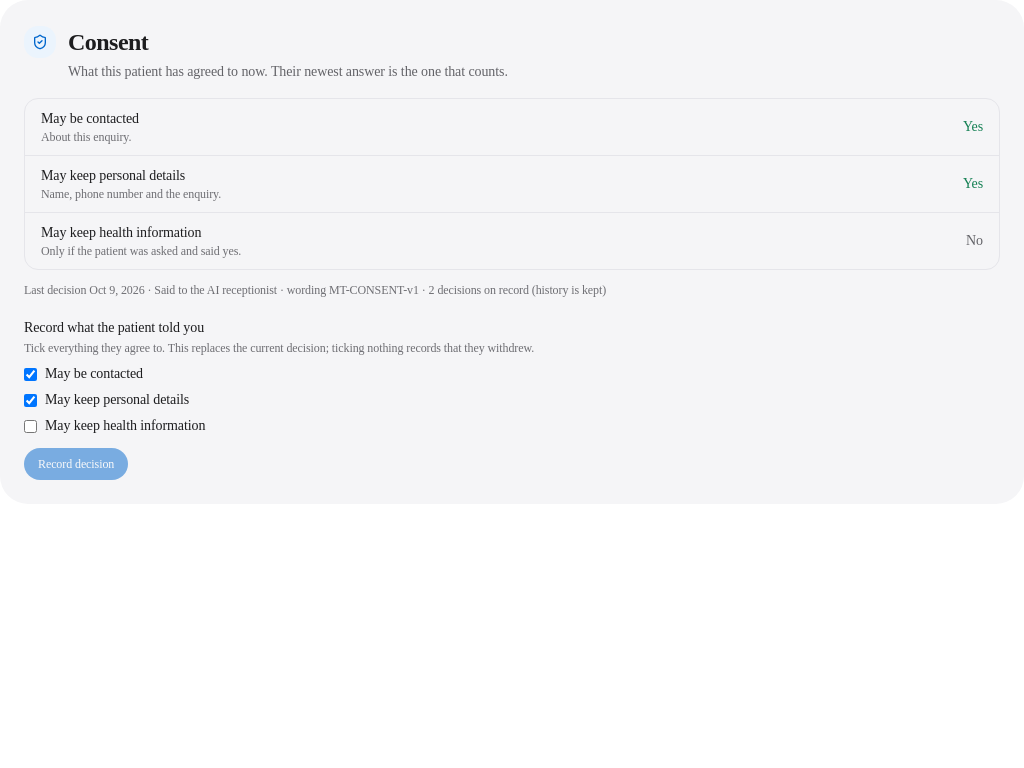
Test case: LeadConsentPanel › ticking nothing records a withdrawal
Expected: the button "Record decision" is shown, [24,448,128,480]
Click the checkbox labelled "May be contacted" at (30, 374), box [24,368,37,380]
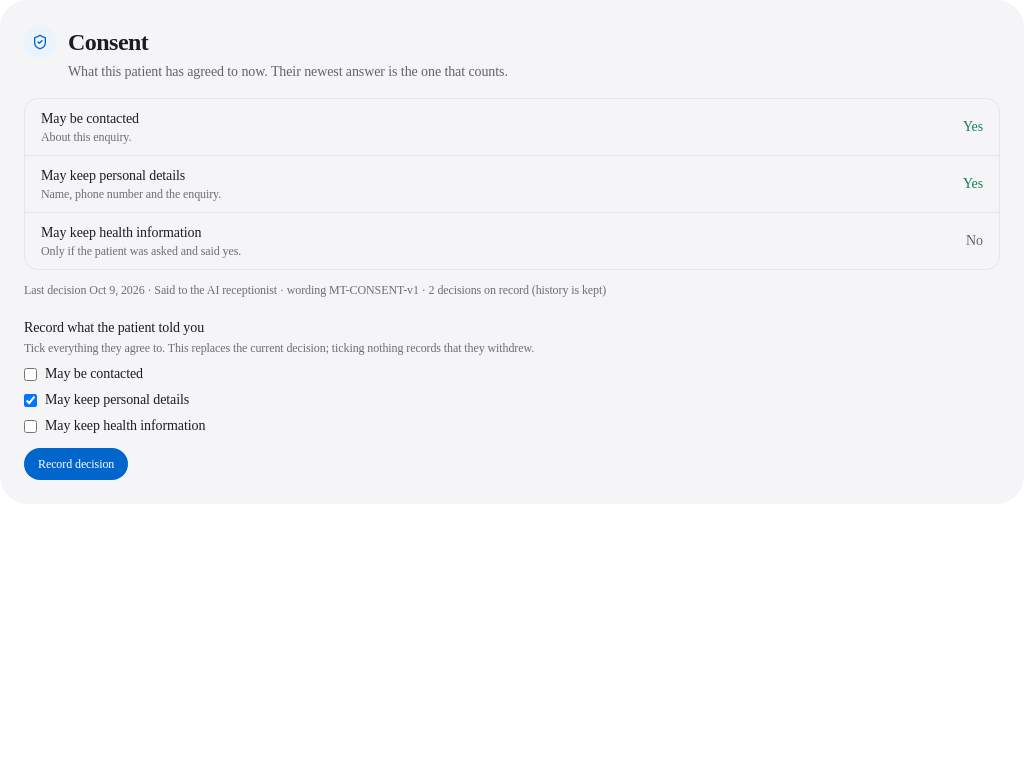
Click the checkbox labelled "May keep personal details" at (30, 400), box [24,394,37,406]
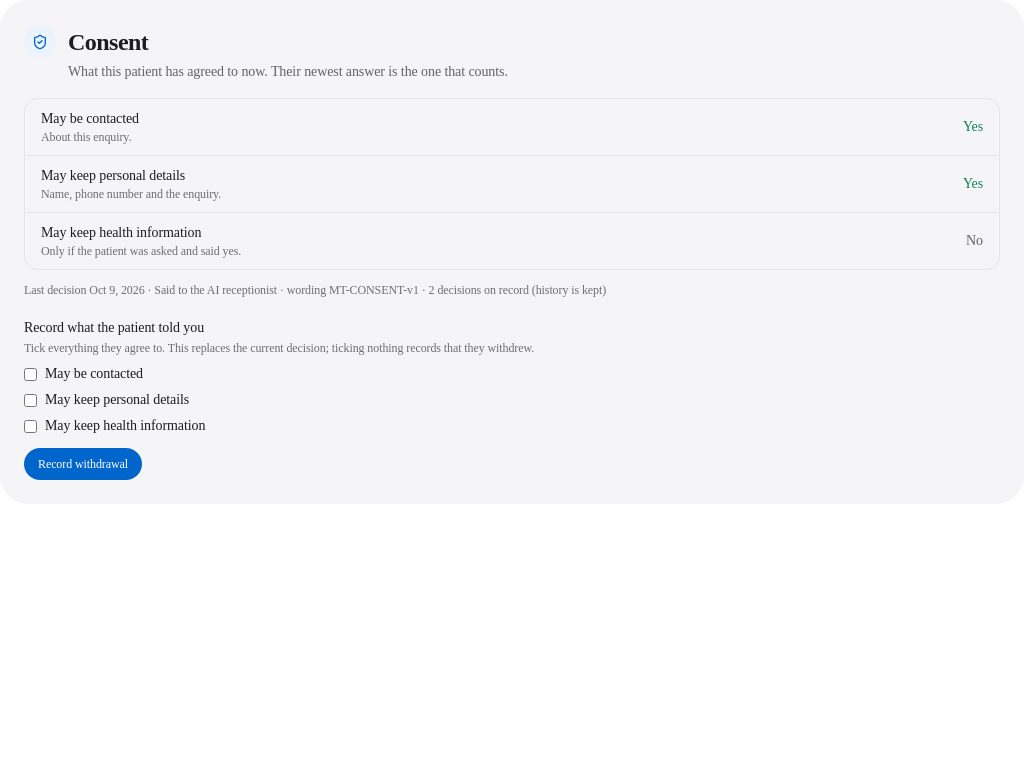
Click the button "Record withdrawal" at (83, 464), box [24,448,142,480]
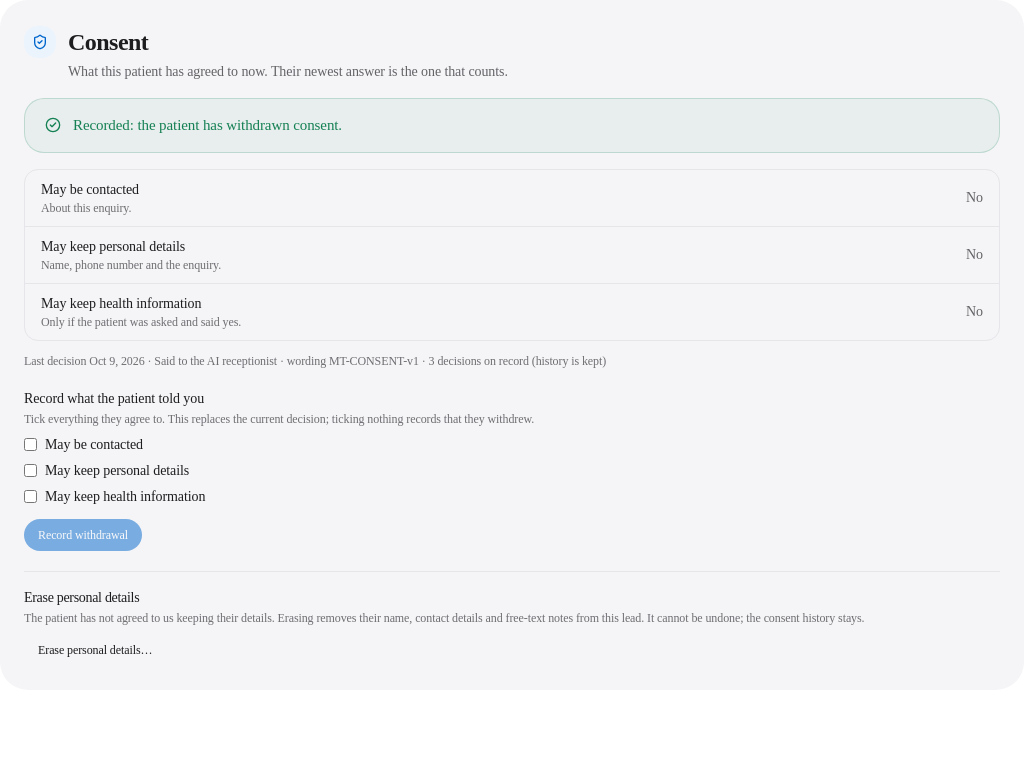
Now the text "Recorded: the patient has withdrawn consent." is shown, box [73,117,342,133]
